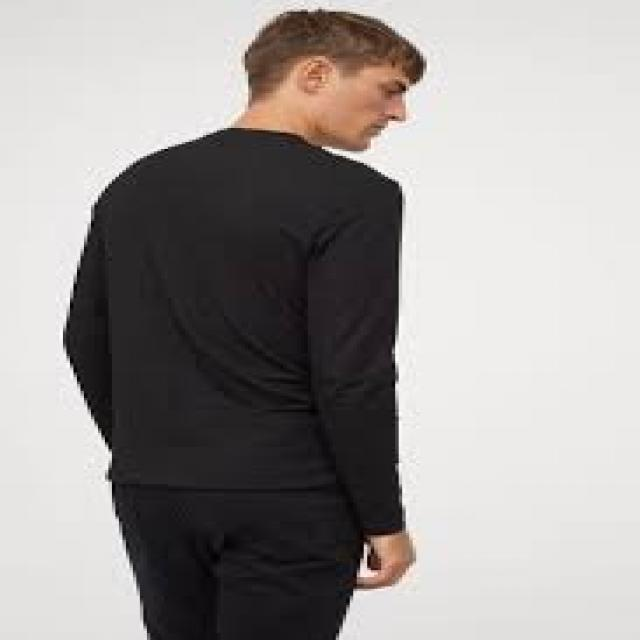plain: (68, 130, 409, 493)
